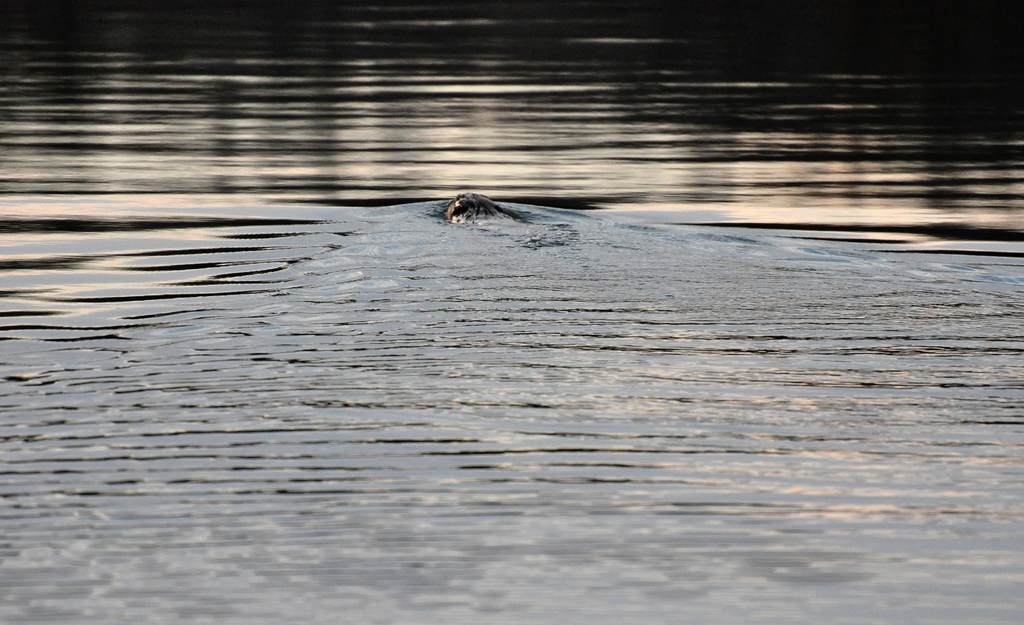Animal: (444, 191, 527, 223)
